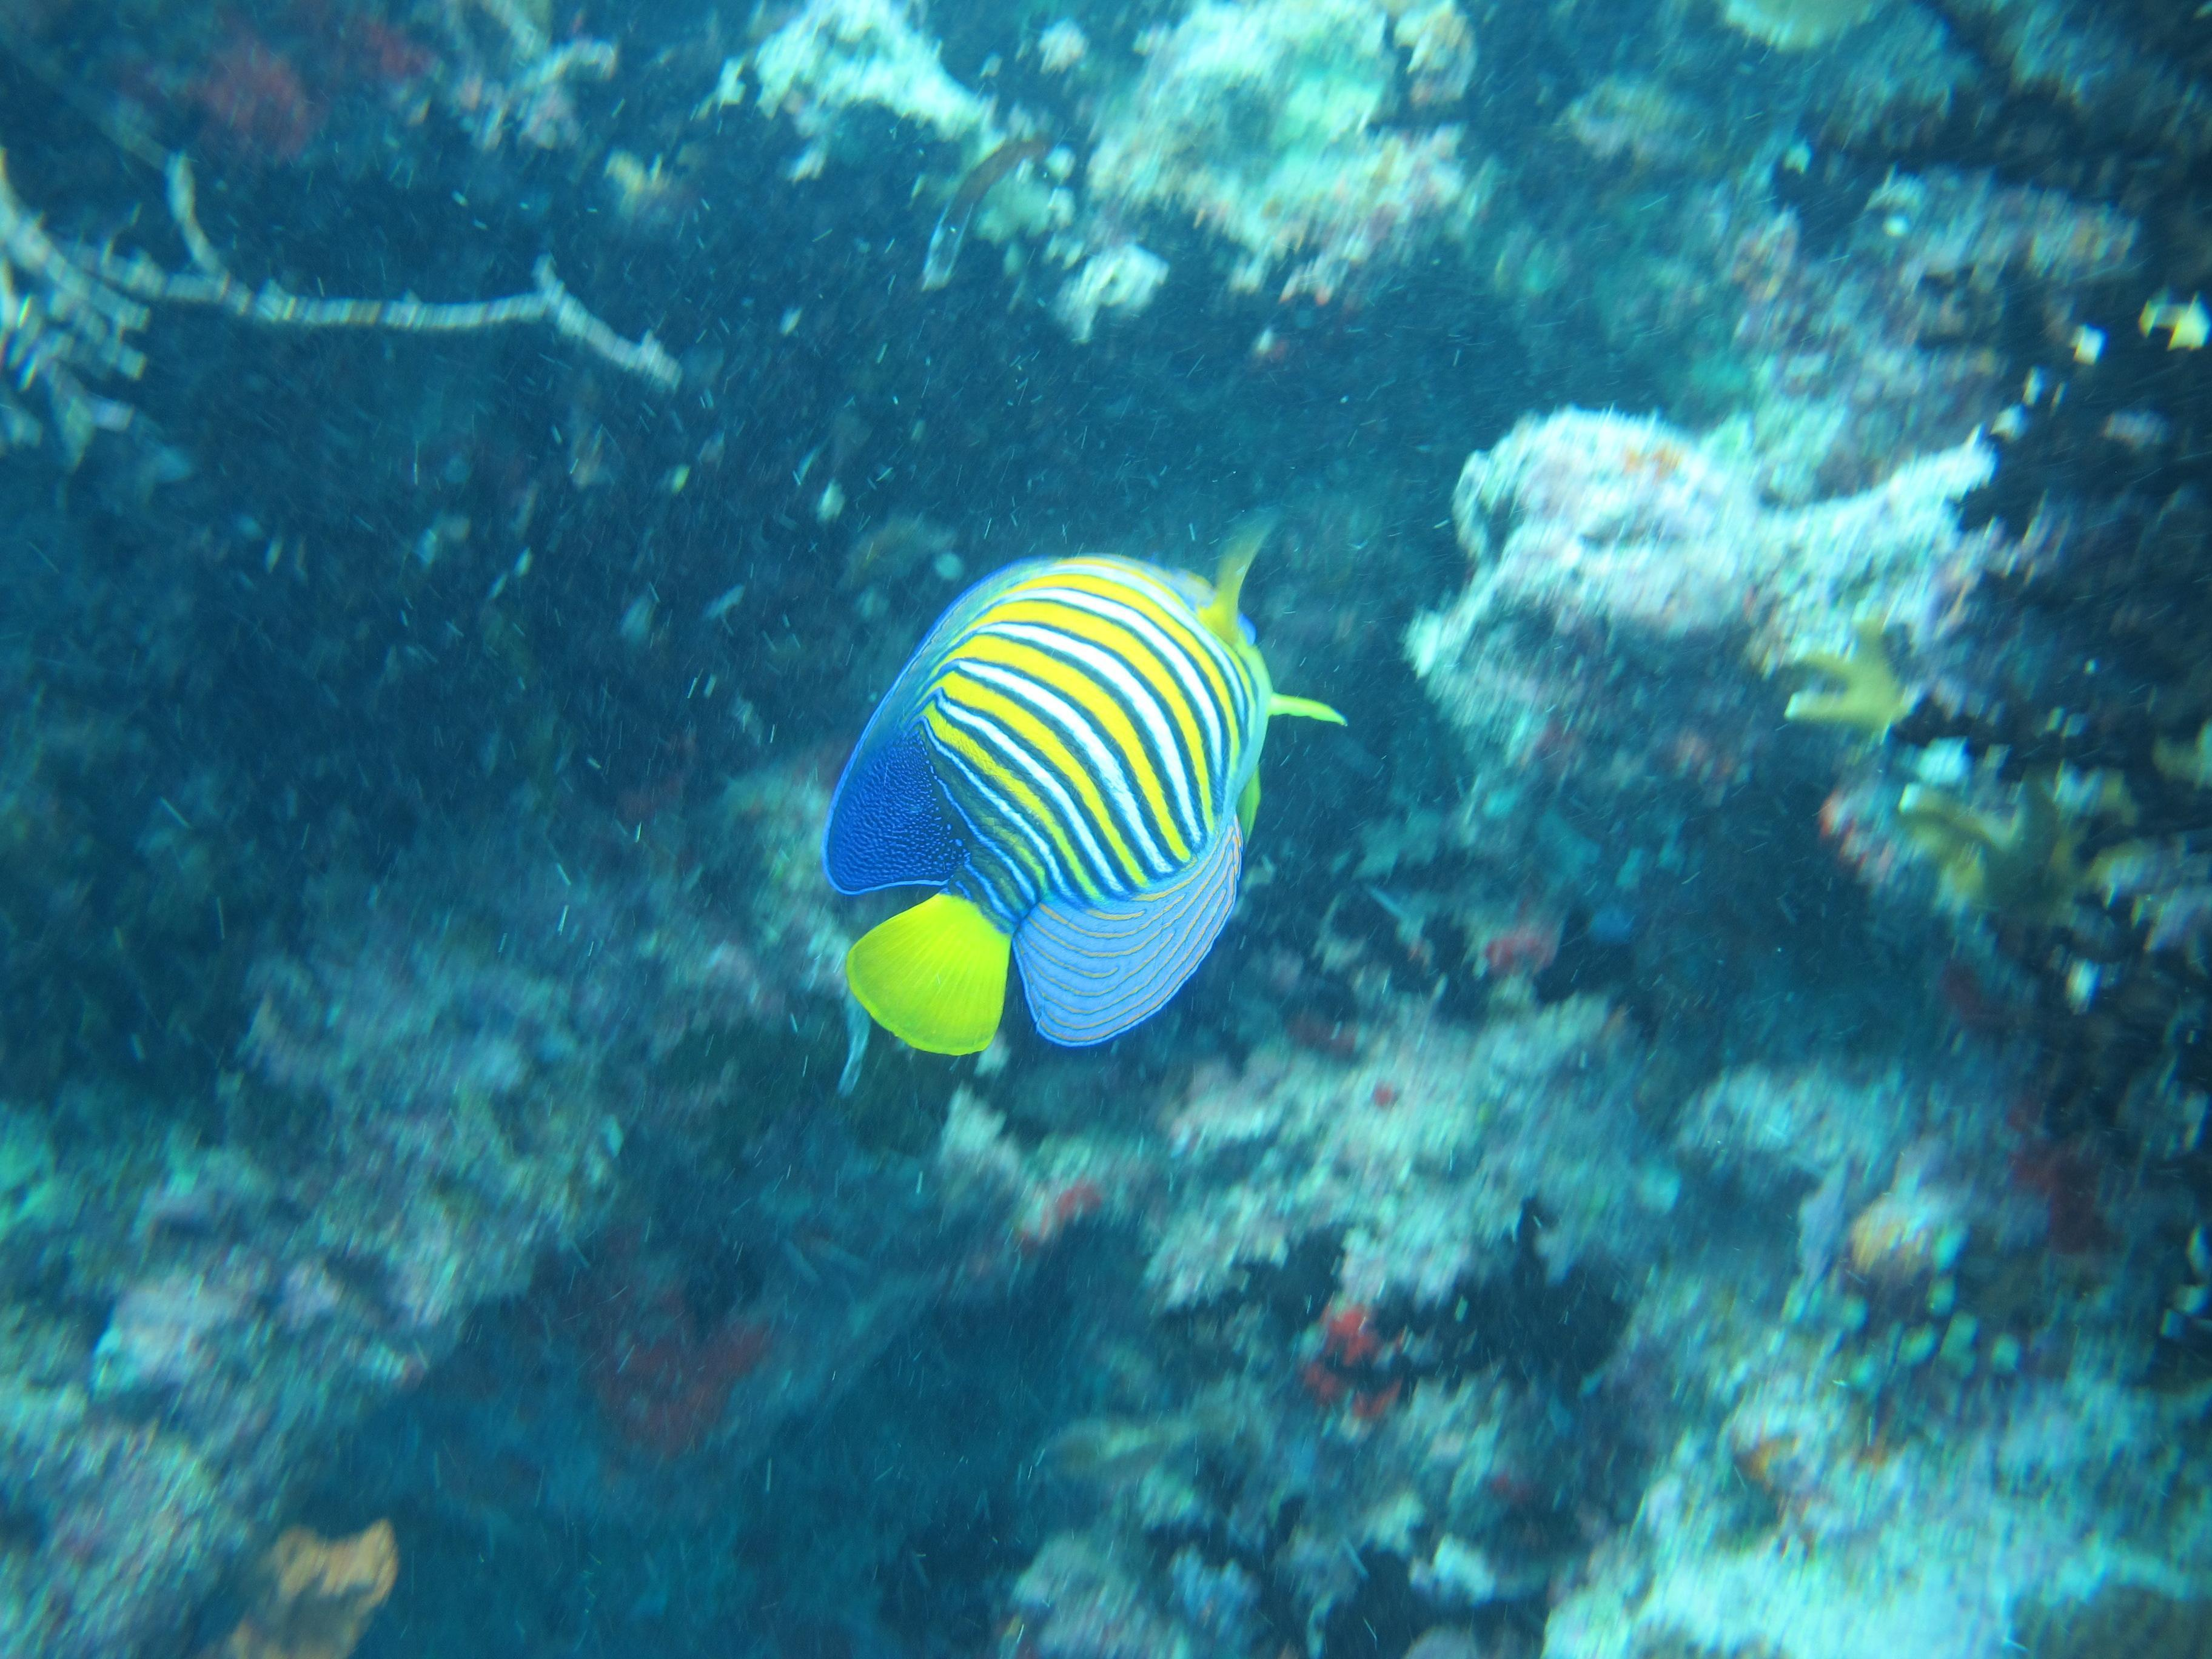Fish: (712, 430, 1454, 1134)
